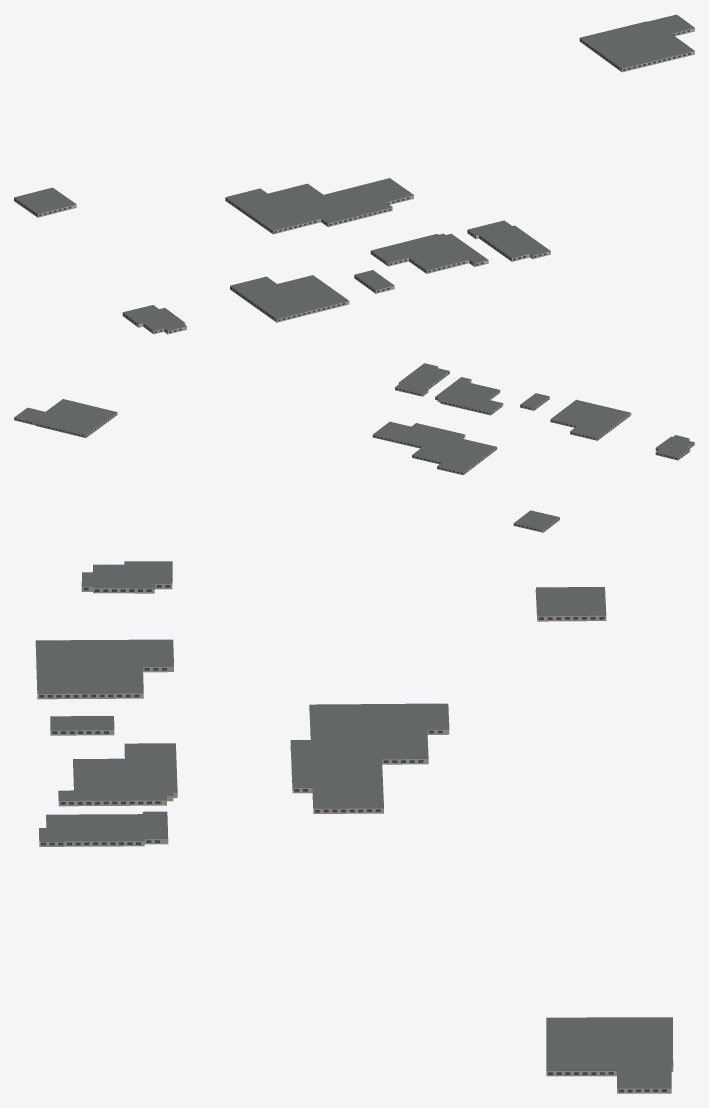
The picture shows the model from 3 angles, top to bottom: view 1: azimuth 30°, elevation 25°; view 2: azimuth 150°, elevation 25°; view 3: azimuth 270°, elevation 25°; orthographic projection. The views are drawn at different scales.
Parts seen in each view (by area): view 1: Buildings (-2, -10) Roof membrane, Buildings (-2, -10) Masonry brick, Buildings (-2, -10) Architectural tinted glass, Buildings (-2, -10) Metal coping; view 2: Buildings (-2, -10) Roof membrane, Buildings (-2, -10) Masonry brick, Buildings (-2, -10) Architectural tinted glass, Buildings (-2, -10) Metal coping; view 3: Buildings (-2, -10) Roof membrane, Buildings (-2, -10) Masonry brick, Buildings (-2, -10) Architectural tinted glass, Buildings (-2, -10) Metal coping.
Boxes of the visible parts, box(x1,y1,x2,y2) form: Buildings (-2, -10) Roof membrane: box(14, 14, 694, 330); Buildings (-2, -10) Masonry brick: box(14, 28, 694, 334); Buildings (-2, -10) Architectural tinted glass: box(14, 30, 690, 332); Buildings (-2, -10) Metal coping: box(14, 14, 694, 330); Buildings (-2, -10) Roof membrane: box(14, 363, 694, 529); Buildings (-2, -10) Masonry brick: box(14, 367, 694, 532); Buildings (-2, -10) Architectural tinted glass: box(14, 372, 693, 531); Buildings (-2, -10) Metal coping: box(14, 364, 694, 529); Buildings (-2, -10) Roof membrane: box(35, 561, 673, 1087); Buildings (-2, -10) Masonry brick: box(35, 574, 673, 1093); Buildings (-2, -10) Architectural tinted glass: box(36, 579, 666, 1092); Buildings (-2, -10) Metal coping: box(36, 561, 672, 1088).
Bounding box in the file's own units: 722 × 4.07 × 369.
